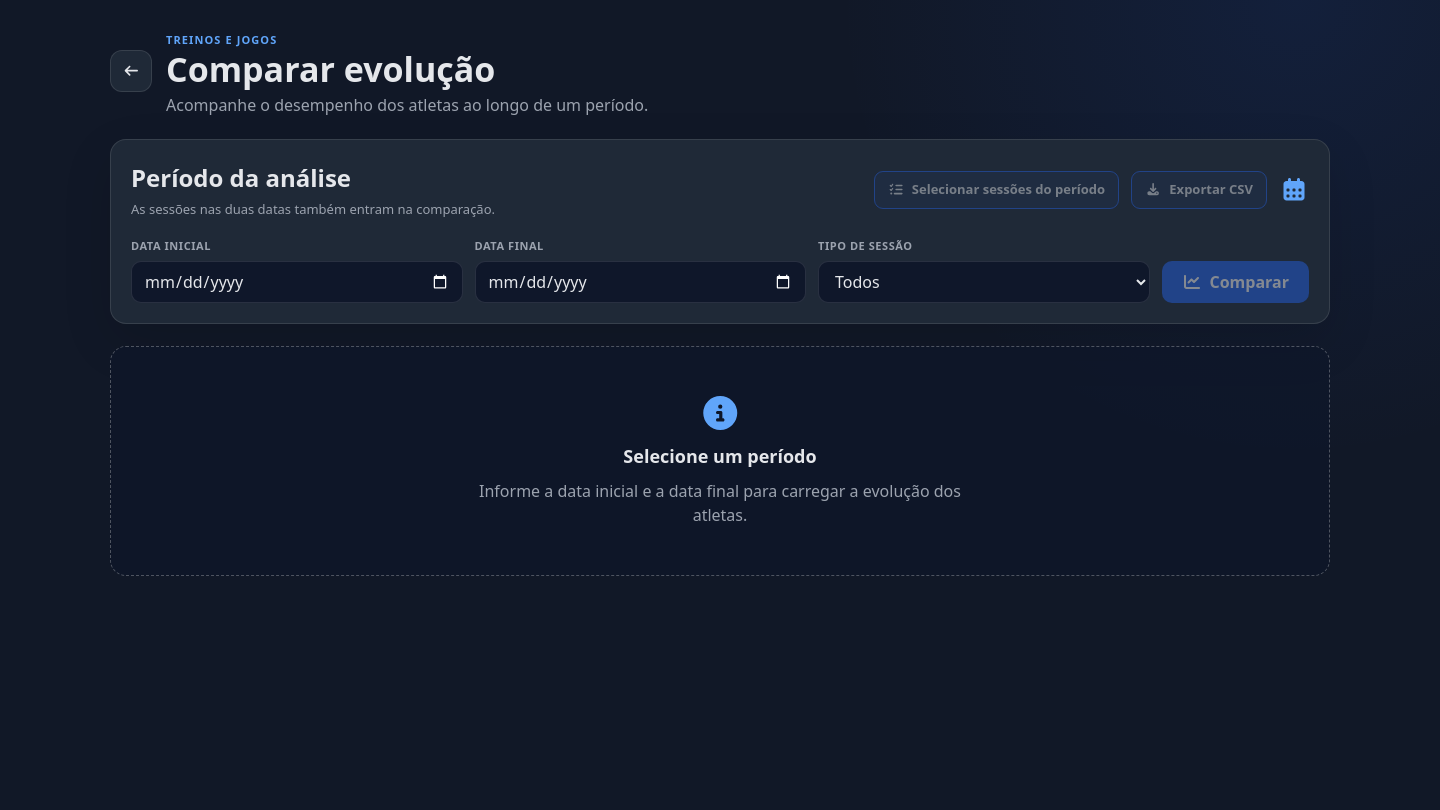
it: SessionComparison › writes valid filters to the URL before loading data
The width and height of the screenshot is (1440, 810).
In the date field labelled "Data inicial": {"x": 297, "y": 282} [131, 261, 462, 303], type "2026-02-15"
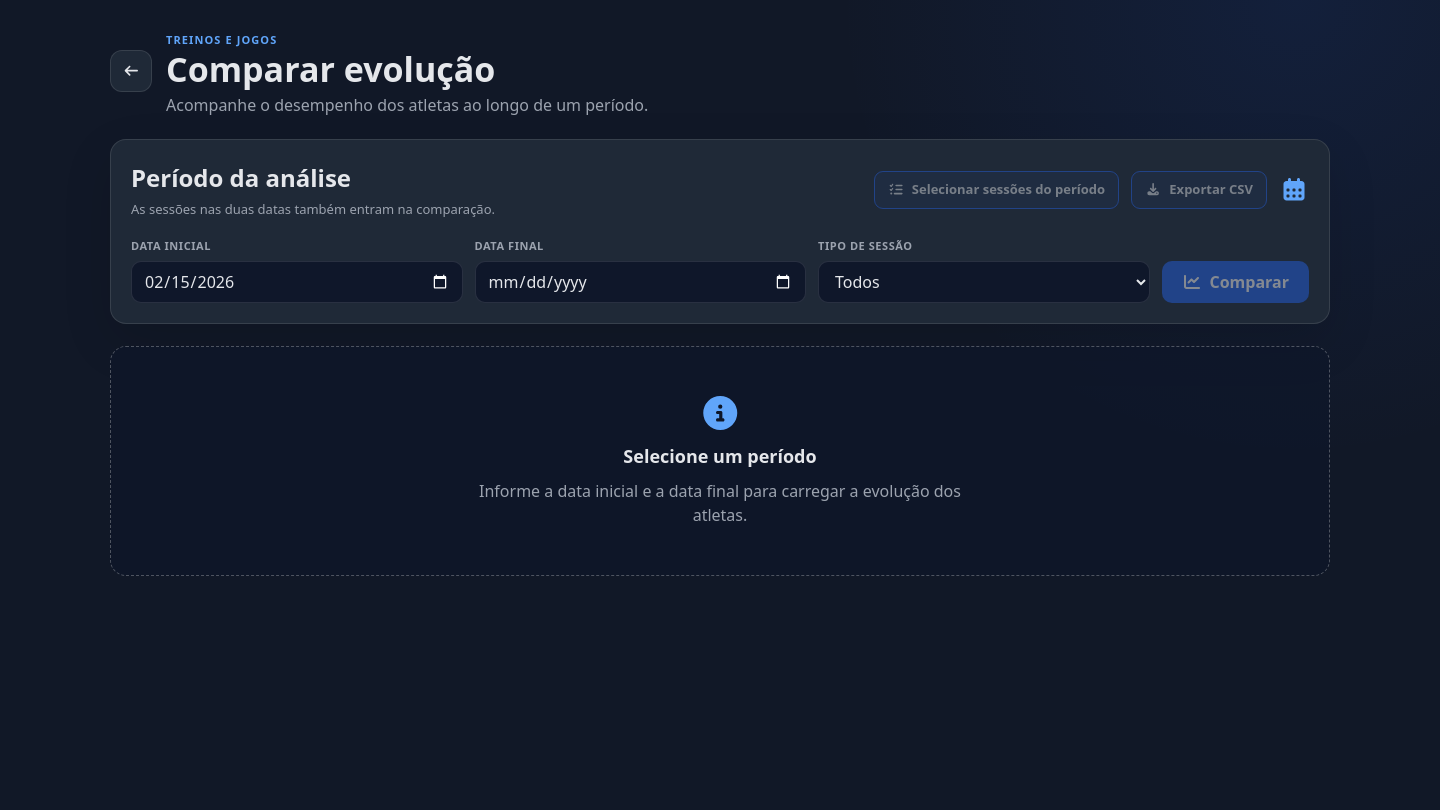
In the date field labelled "Data final": {"x": 640, "y": 282} [474, 261, 806, 303], type "2026-02-19"
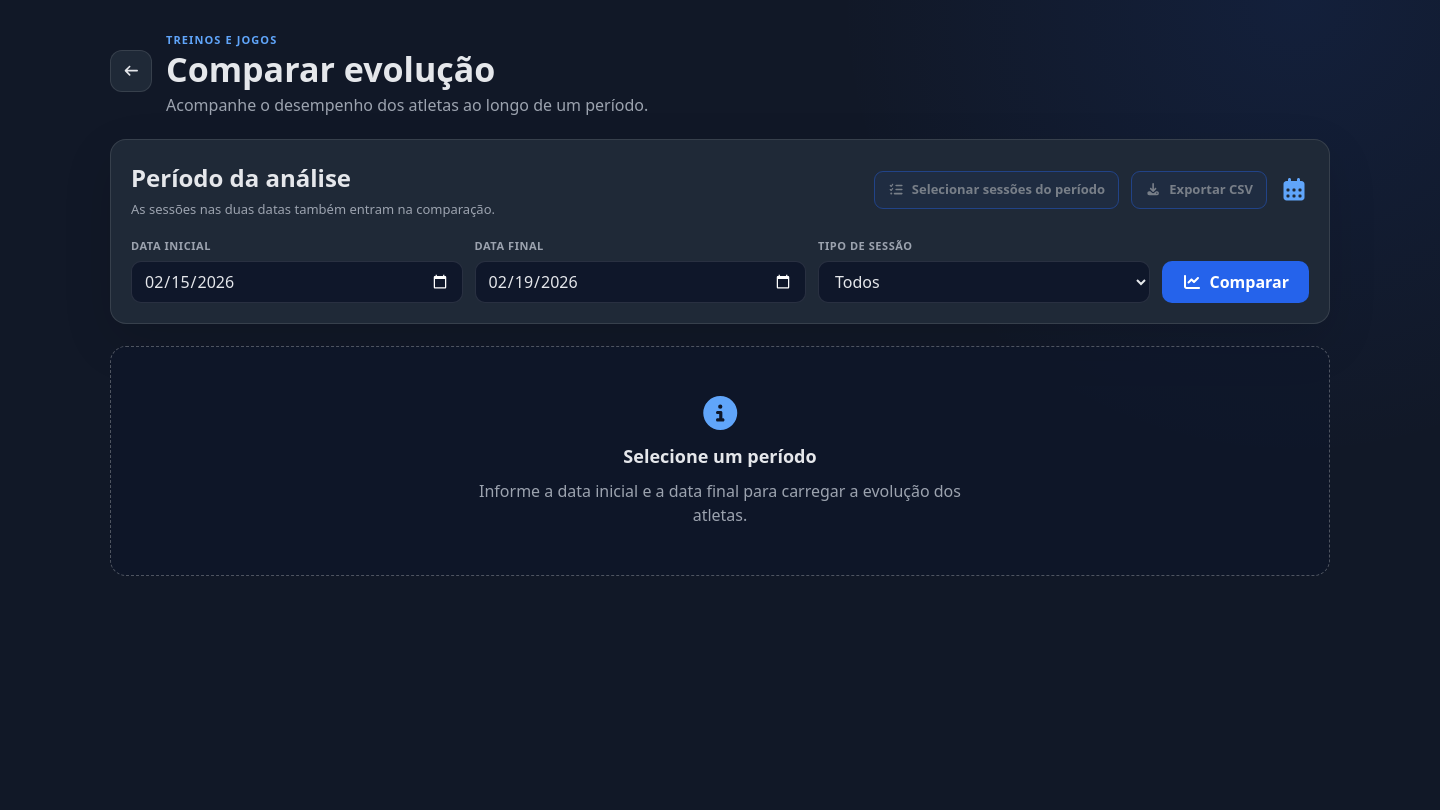
Select "Treinos" in the dropdown labelled "Tipo de sessão": {"x": 984, "y": 282} [818, 261, 1150, 303]
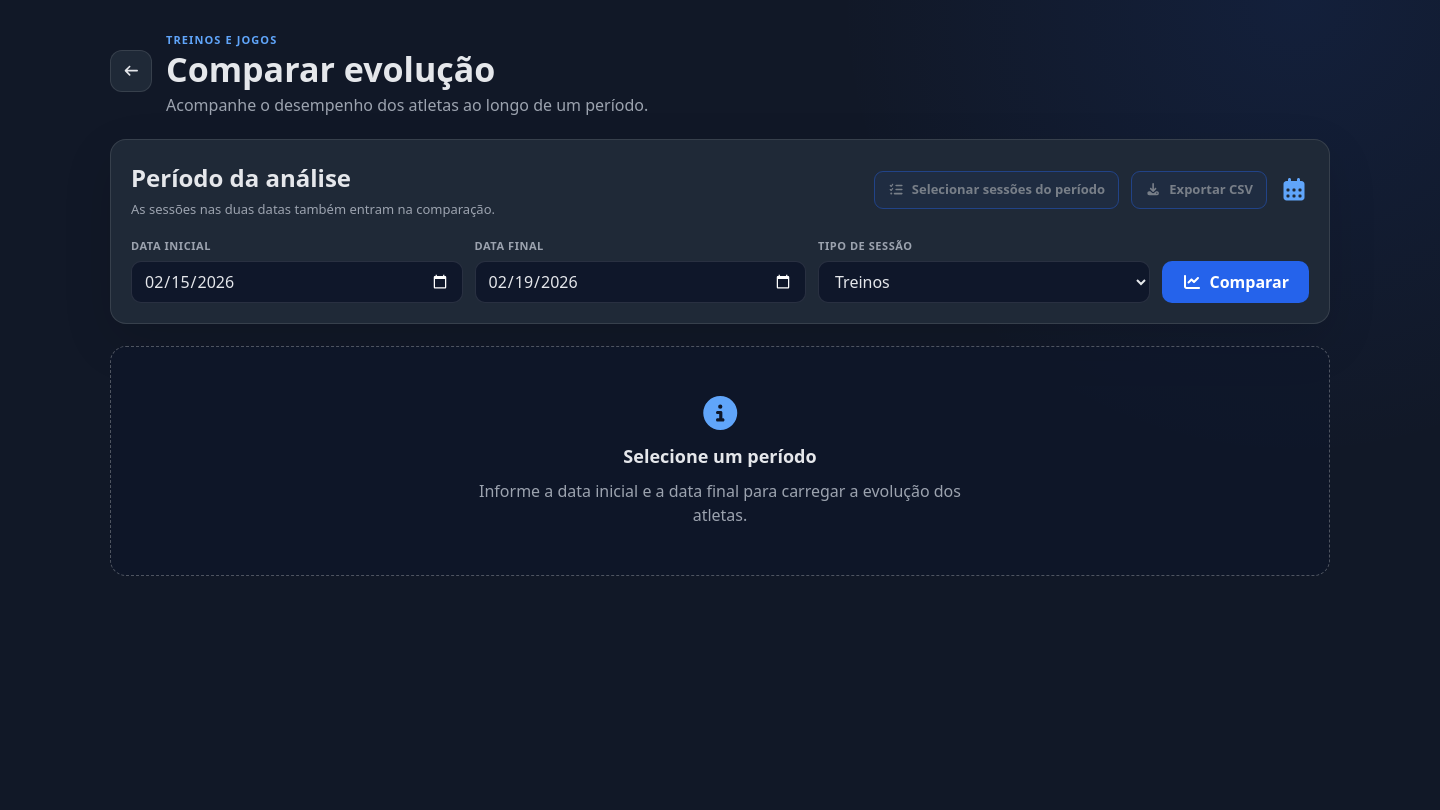
Click the button "Comparar": {"x": 1235, "y": 282} [1162, 261, 1309, 303]
(page scrolled)
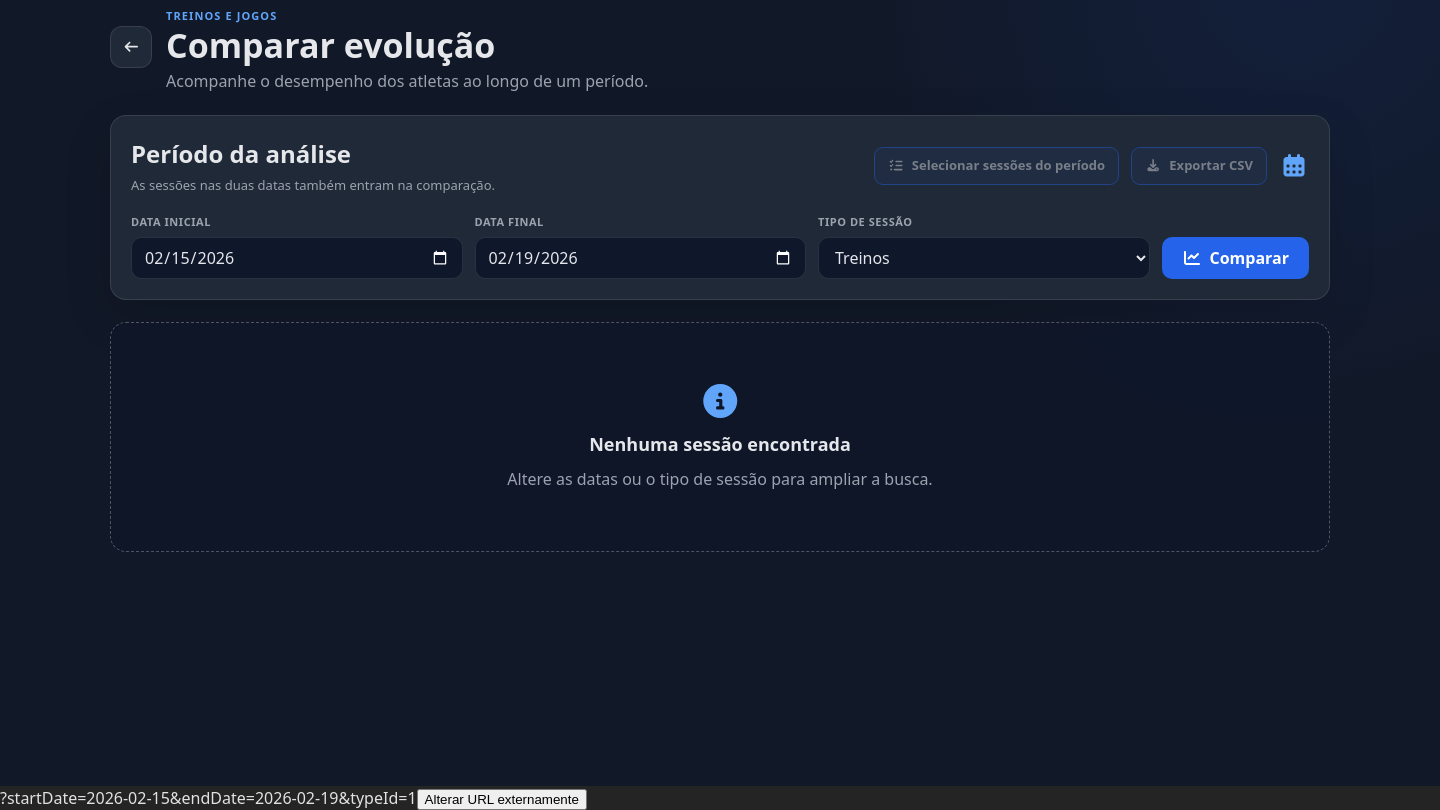
Now the text with test id "location" shows "startDate=2026-02-15", box [0, 787, 416, 809]
Now the text with test id "location" shows "endDate=2026-02-19", box [0, 787, 416, 809]
Now the text with test id "location" shows "typeId=1", box [0, 787, 416, 809]
